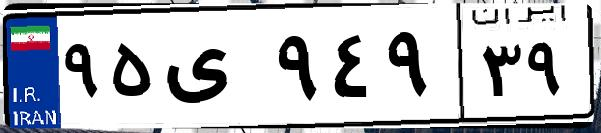3: (475, 38, 525, 113)
4: (330, 28, 385, 110)
5: (110, 28, 158, 98)
9: (270, 28, 330, 110), (385, 28, 445, 110), (57, 26, 110, 100), (525, 38, 570, 115)
ی: (158, 20, 270, 120)
